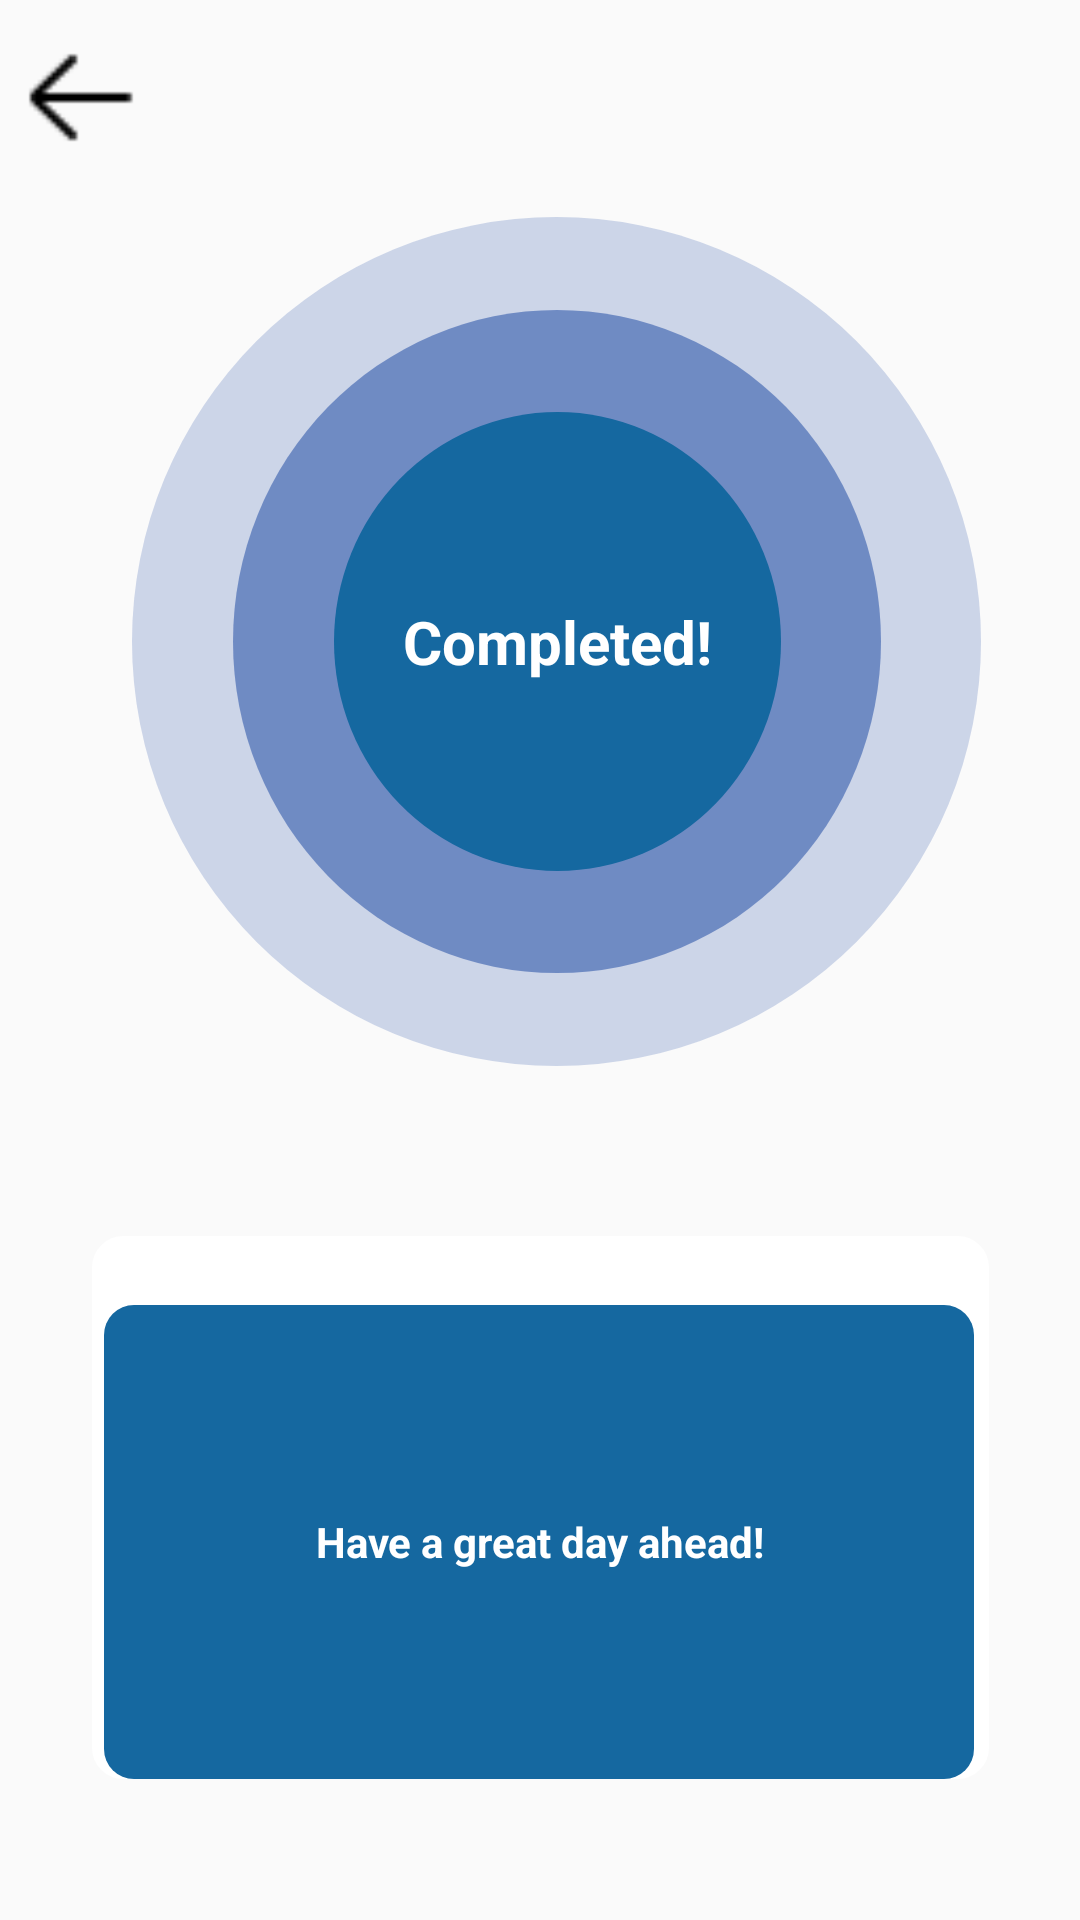

Icons on this 1080px x 1920px Android screen, each with its box as (x1, y1, x2, y2):
arrowblack: (29, 54, 133, 141)
